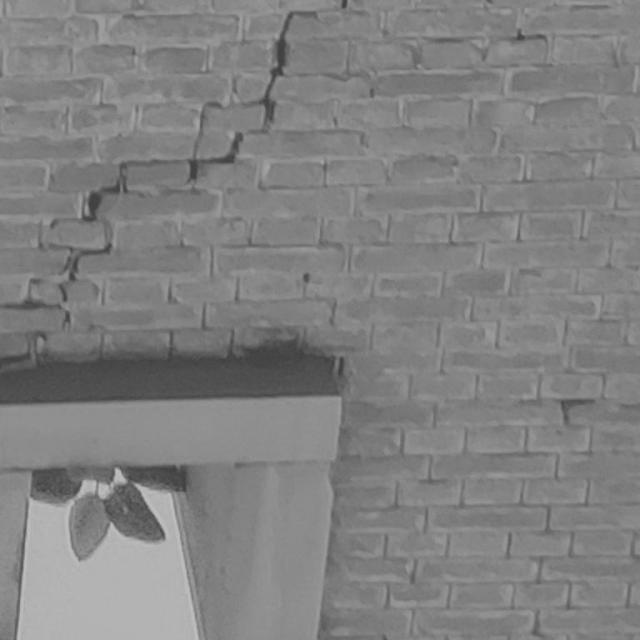crack: (1, 1, 347, 365)
